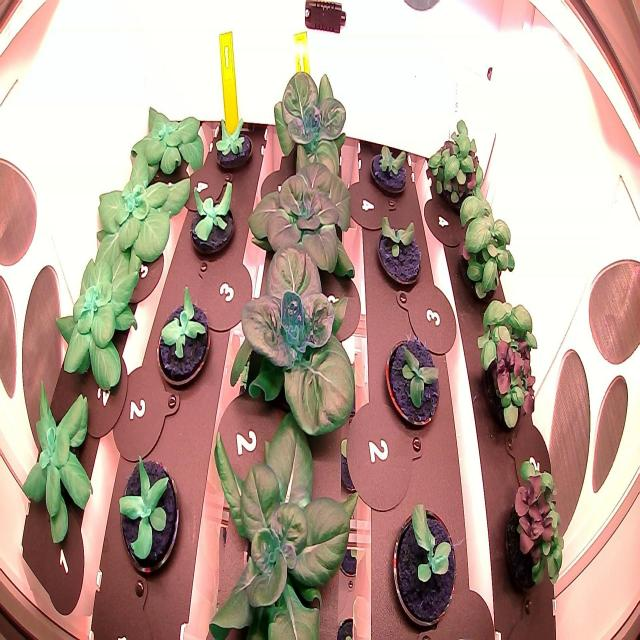young: (205, 402, 370, 640), (225, 239, 359, 444), (245, 136, 372, 289), (83, 138, 196, 284), (14, 376, 98, 556), (51, 236, 145, 393), (264, 54, 362, 204), (387, 493, 464, 640), (110, 444, 187, 586), (377, 322, 447, 447), (149, 283, 218, 396), (126, 96, 208, 185), (371, 209, 431, 302), (185, 169, 241, 265), (364, 125, 416, 208), (210, 110, 256, 181)
